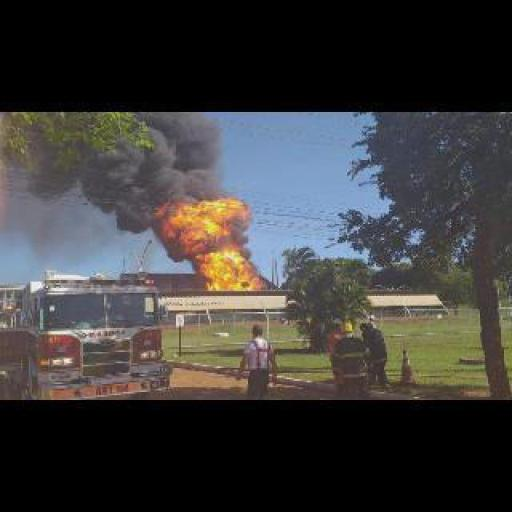smoke: (14, 110, 226, 200), (155, 187, 264, 290)
